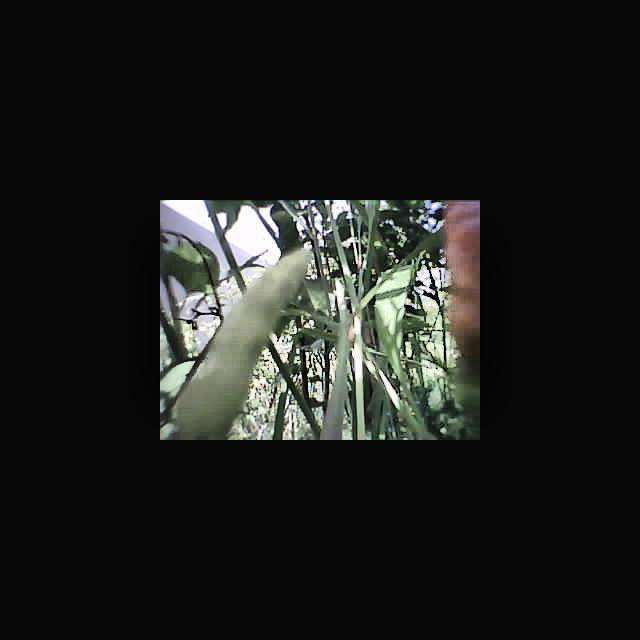Cabai: (444, 202, 480, 368)
